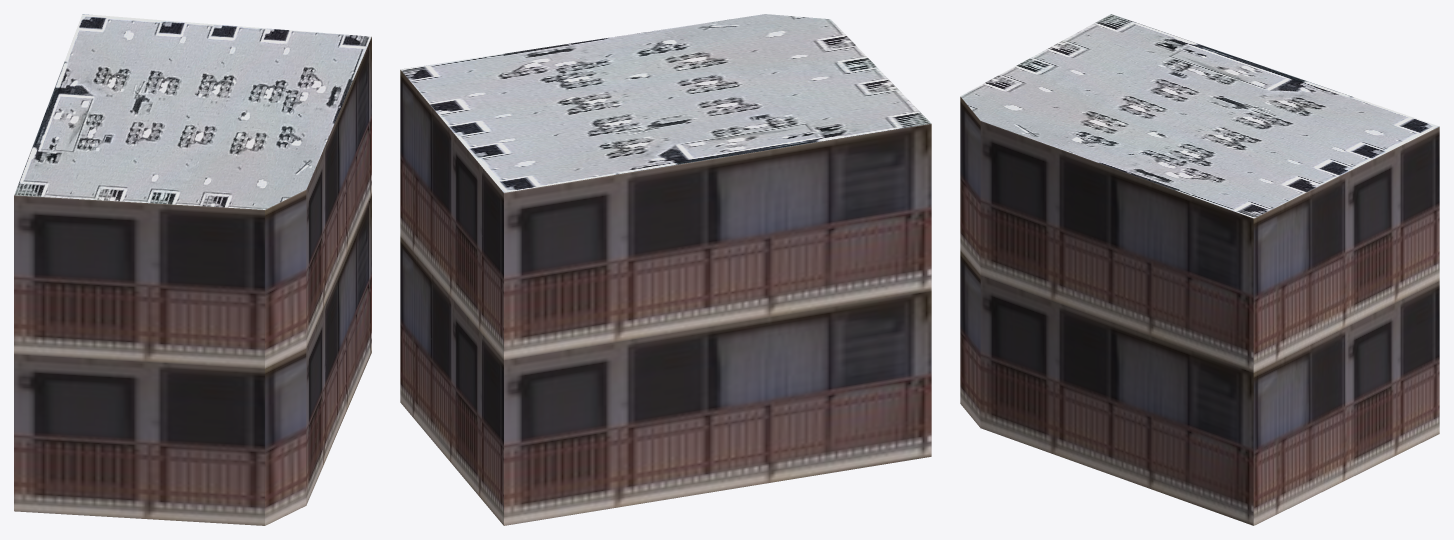
Rendered from ResTex__2750.fbx.
3 renders of one model, left to right at view 1: azimuth 30°, elevation 25°; view 2: azimuth 150°, elevation 25°; view 3: azimuth 270°, elevation 25°, orthographic. The views are drawn at different scales.
Parts seen in each view (by area): view 1: CityEngineMaterial_6_m, CityEngineMaterial_2_m; view 2: CityEngineMaterial_6_m, CityEngineMaterial_2_m; view 3: CityEngineMaterial_6_m, CityEngineMaterial_2_m.
Boxes of the visible parts, box(x1,y1,x2,y2) form: CityEngineMaterial_6_m: box(14, 37, 371, 525); CityEngineMaterial_2_m: box(14, 14, 371, 209); CityEngineMaterial_6_m: box(400, 70, 931, 525); CityEngineMaterial_2_m: box(400, 14, 930, 192); CityEngineMaterial_6_m: box(960, 97, 1439, 525); CityEngineMaterial_2_m: box(960, 14, 1439, 218).
Size of the model in its own units: 8.56 by 6 by 8.48.
Materials: 2 (2 with a texture image).
